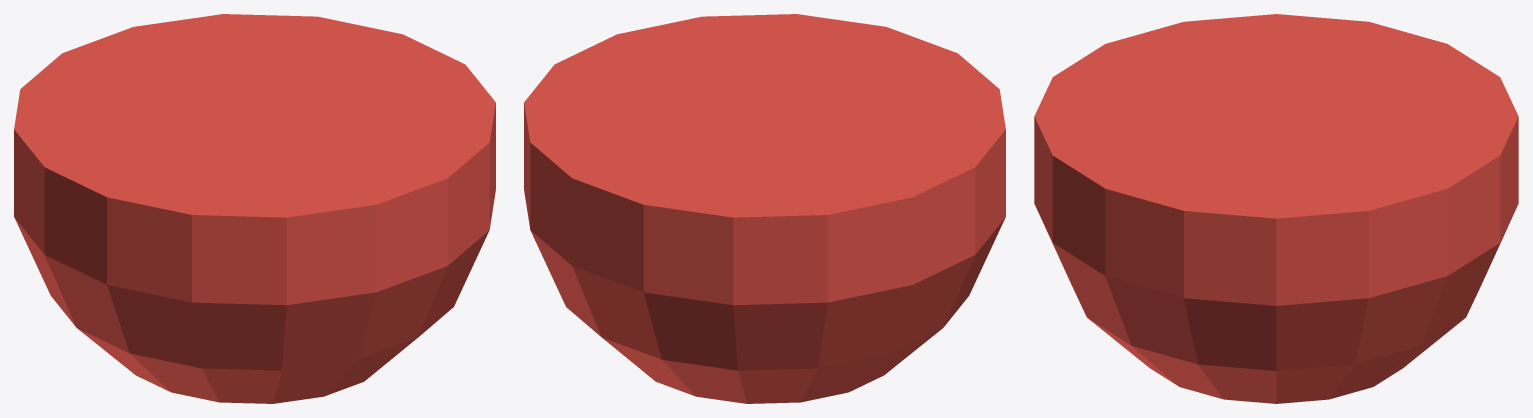
The model's file is testBottleLiquid.fbx.
The picture shows the model from 3 angles, left to right: view 1: azimuth 30°, elevation 25°; view 2: azimuth 150°, elevation 25°; view 3: azimuth 270°, elevation 25°; orthographic projection.
Visible parts, largest first — view 1: Sphere.001; view 2: Sphere.001; view 3: Sphere.001.
Boxes of the visible parts, <box> form: Sphere.001: <box>14,14,495,403</box>; Sphere.001: <box>524,14,1005,403</box>; Sphere.001: <box>1034,14,1518,403</box>.
Size of the model in its own units: 149 by 90.85 by 149.
